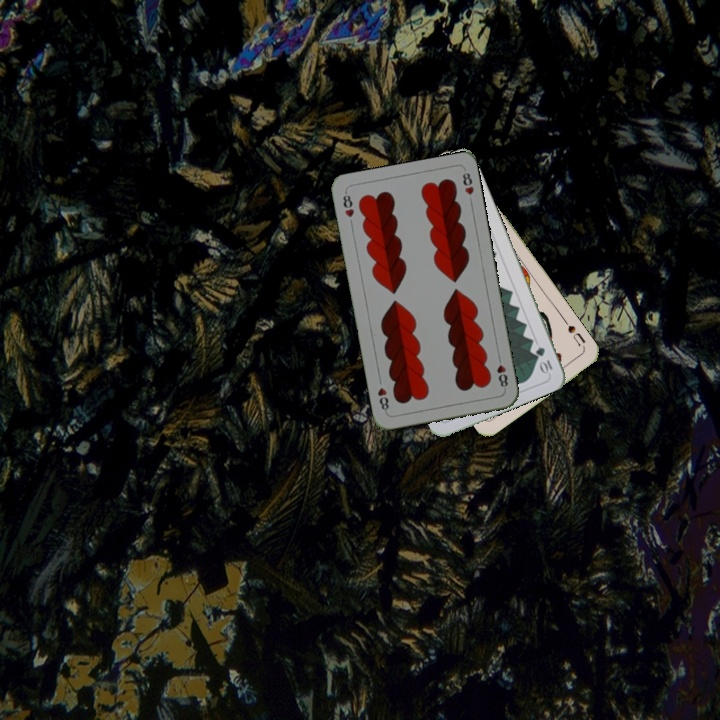G10: (532, 343, 555, 376)
H8: (493, 352, 510, 392), (339, 189, 357, 220)
SU: (560, 316, 588, 349)
